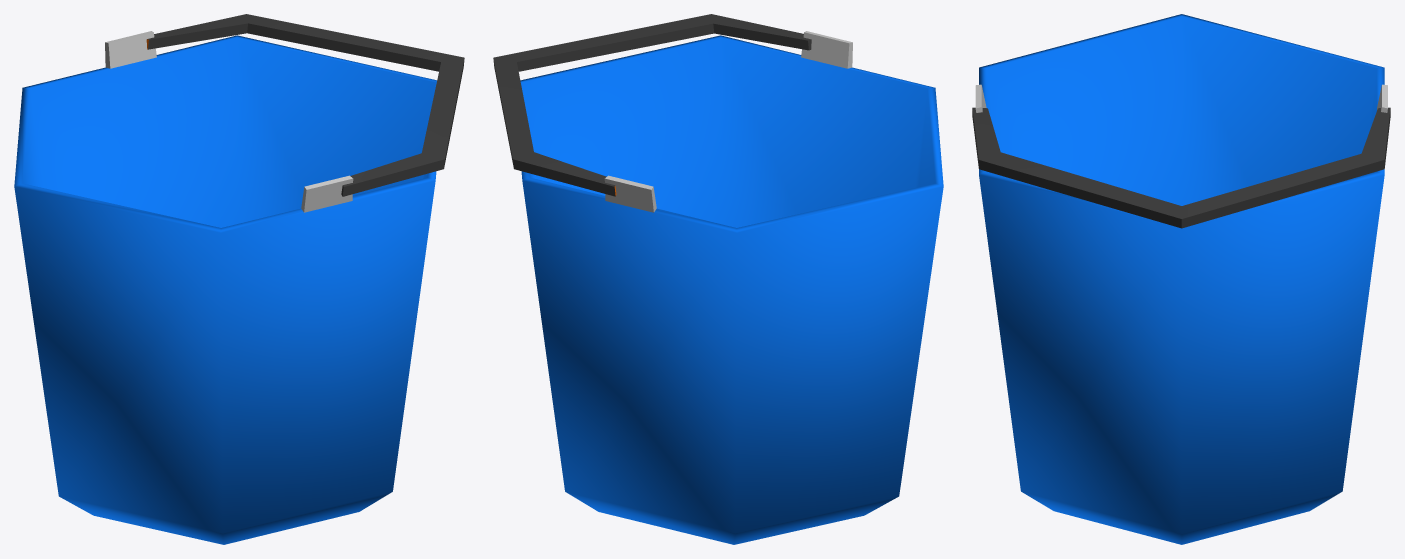
File: Bucket_A.FBX
The picture shows the model from 3 angles, left to right: view 1: azimuth 30°, elevation 25°; view 2: azimuth 150°, elevation 25°; view 3: azimuth 270°, elevation 25°; orthographic projection. The views are drawn at different scales.
Parts seen in each view (by area): view 1: Bucket; view 2: Bucket; view 3: Bucket.
Part boxes in pixels (box(x1,y1,x2,y2)): Bucket: box(14, 14, 464, 544); Bucket: box(493, 14, 943, 544); Bucket: box(972, 14, 1390, 544).
Bounding box in the file's own units: 81.17 × 64.26 × 63.84.
